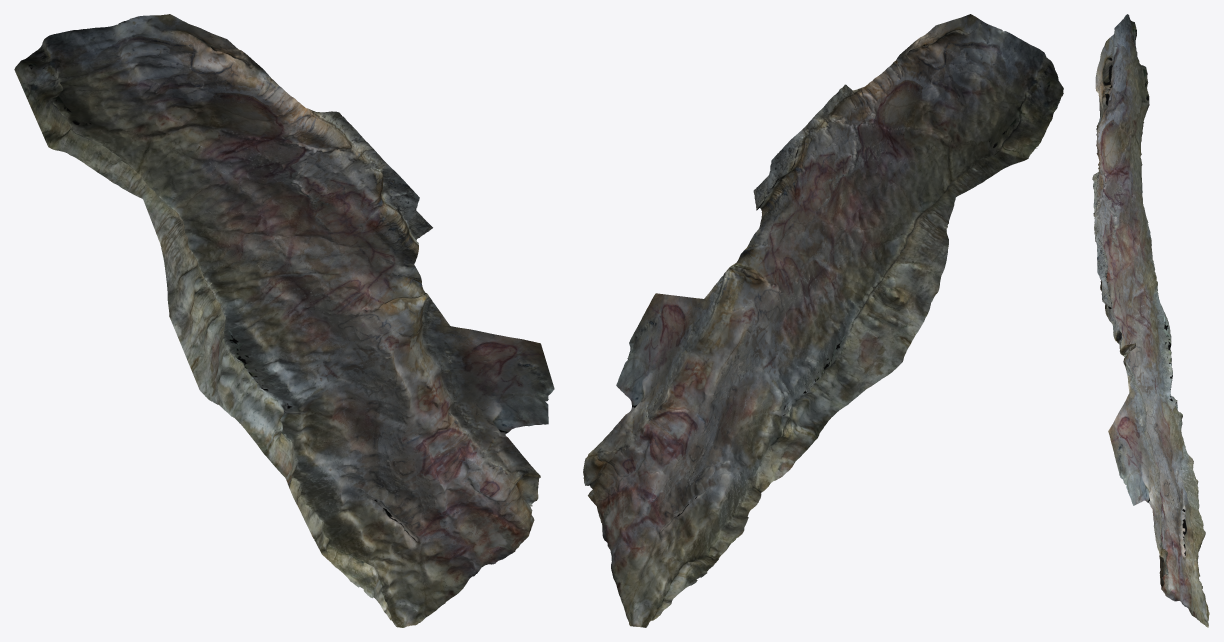
File: arcy.obj
3 views of the same model, side by side, from view 1: azimuth 30°, elevation 25°; view 2: azimuth 150°, elevation 25°; view 3: azimuth 270°, elevation 25° (orthographic). The views are drawn at different scales.
Size of the model in its own units: 98.45 by 129 by 28.31.
Materials: 1 (1 with a texture image).
